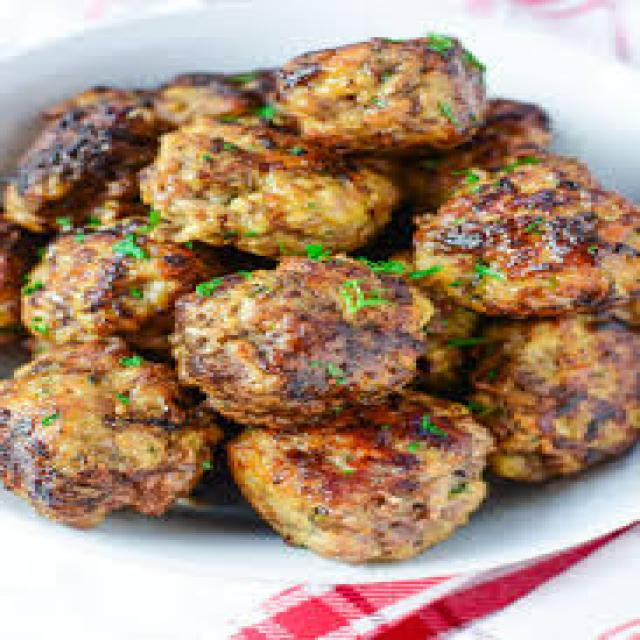meatball: (184, 400, 530, 566), (158, 245, 461, 434), (106, 117, 430, 270), (2, 202, 243, 367), (0, 369, 234, 538), (398, 163, 640, 319), (263, 19, 504, 163)
